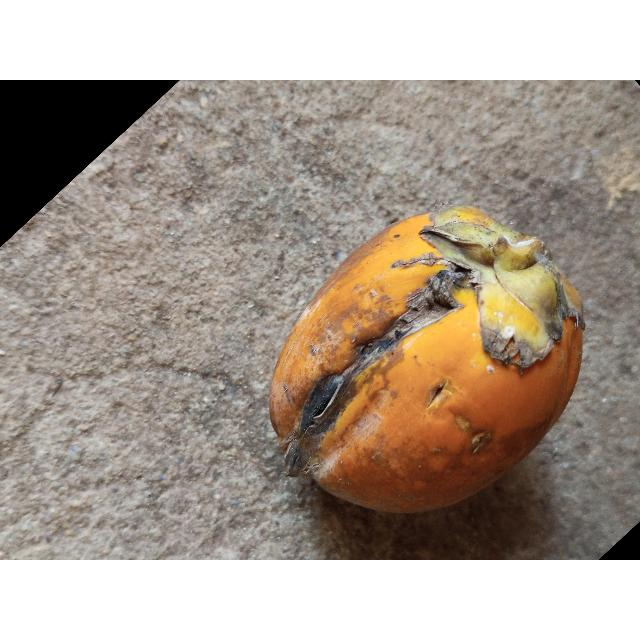damaged: (267, 207, 585, 515)
